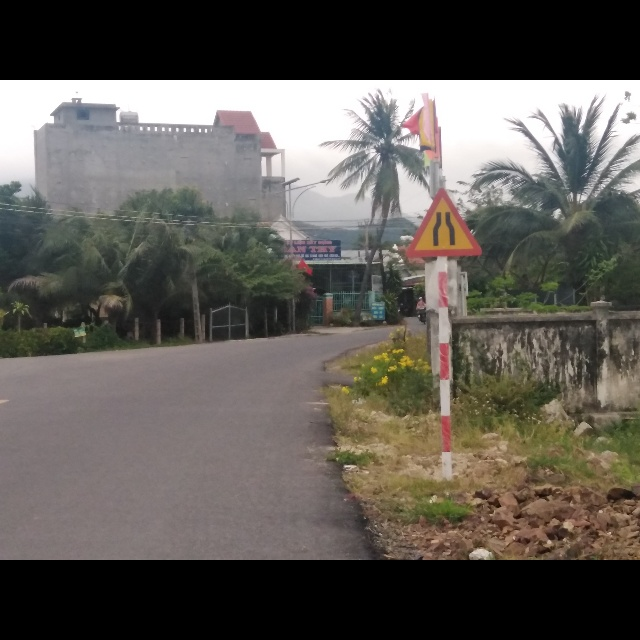Đường bị hẹp cả hai bên: (409, 188, 485, 259)
